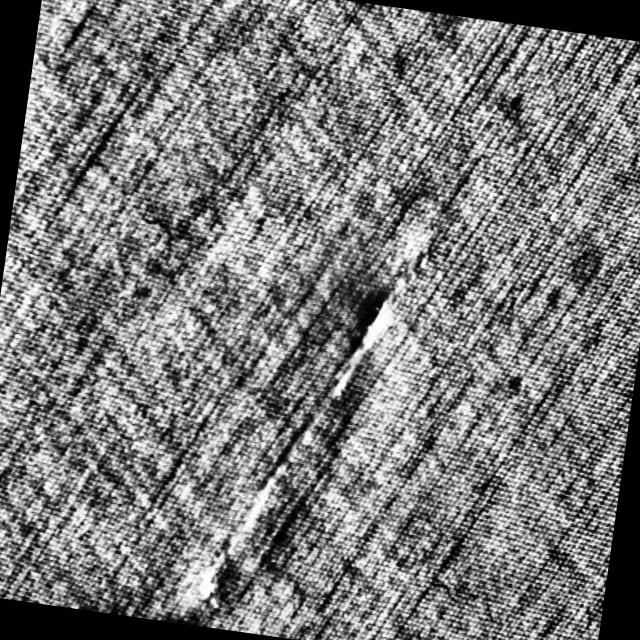gray stitch: (312, 236, 429, 424), (187, 538, 249, 620)
